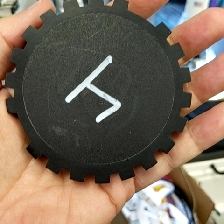gear: (3, 1, 193, 185)
missing: (5, 93, 43, 162), (111, 1, 173, 42)
